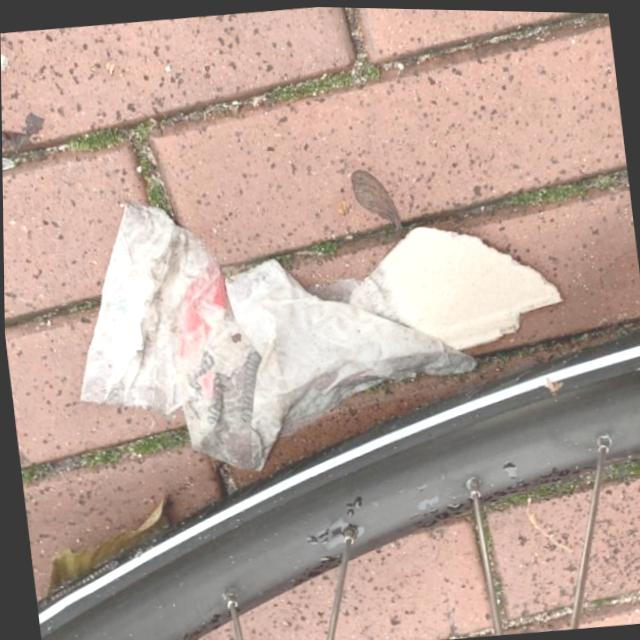Paper: (53, 151, 584, 494)
